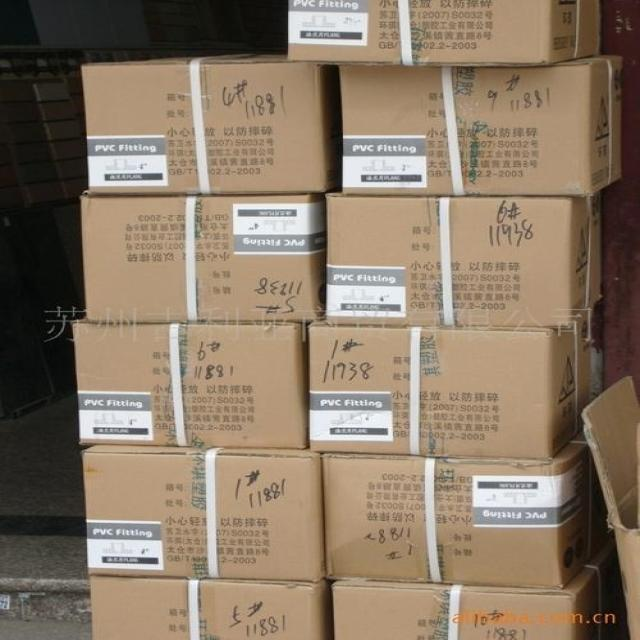box: (325, 421, 613, 587), (309, 315, 597, 461), (321, 188, 604, 333), (339, 50, 621, 195), (78, 53, 339, 193), (81, 445, 324, 582), (79, 188, 328, 320), (70, 313, 308, 448), (333, 534, 631, 637), (288, 1, 605, 67), (3, 194, 85, 424), (90, 575, 333, 639), (579, 377, 636, 637), (4, 80, 92, 209), (148, 1, 288, 49), (53, 45, 159, 77), (0, 46, 64, 80), (151, 39, 249, 55)
